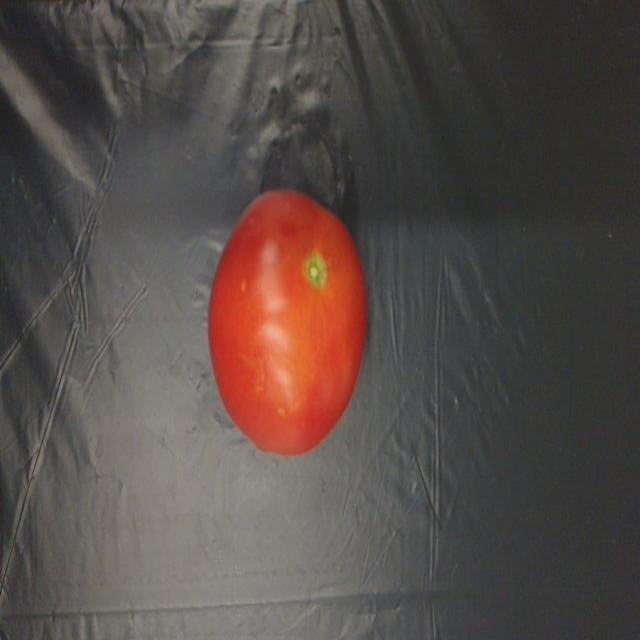kirmizi: (194, 194, 394, 466)
